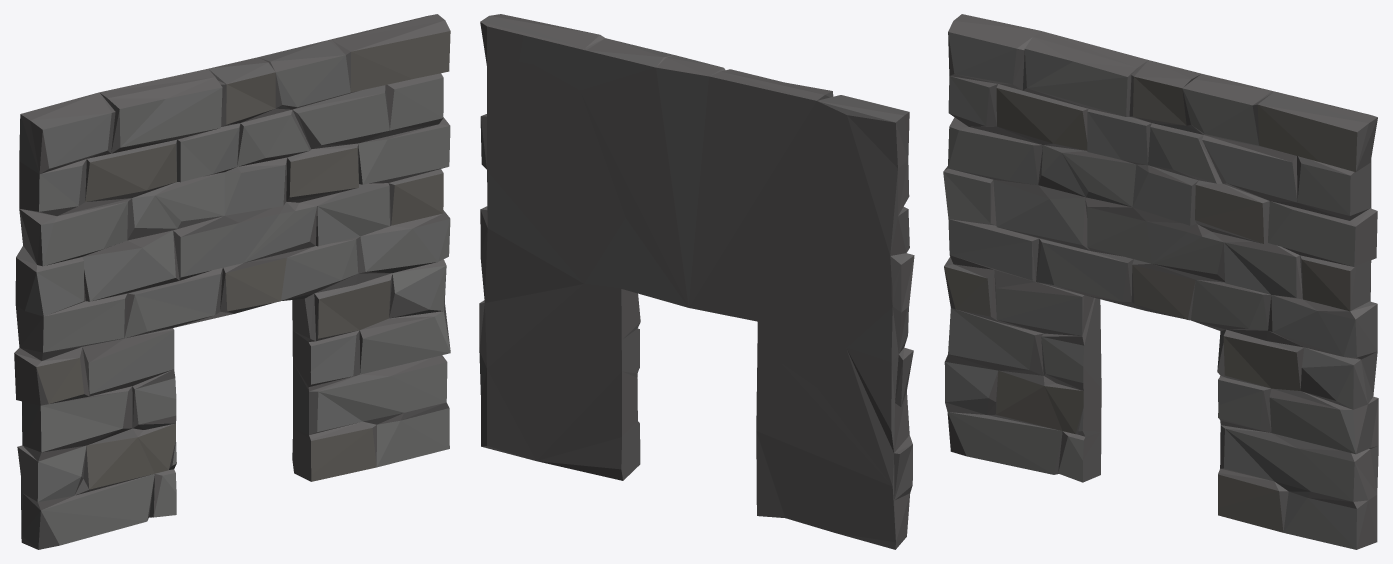
Rendered from SM_Env_Wall_DoorFrame_01.FBX.
The picture shows the model from 3 angles, left to right: view 1: azimuth 30°, elevation 25°; view 2: azimuth 150°, elevation 25°; view 3: azimuth 330°, elevation 25°; orthographic projection.
Parts seen in each view (by area): view 1: SM_Env_Wall_DoorFrame_01; view 2: SM_Env_Wall_DoorFrame_01; view 3: SM_Env_Wall_DoorFrame_01.
Boxes of the visible parts, box(x1,y1,x2,y2) form: SM_Env_Wall_DoorFrame_01: box(14, 14, 450, 549); SM_Env_Wall_DoorFrame_01: box(479, 14, 914, 549); SM_Env_Wall_DoorFrame_01: box(943, 14, 1378, 549).
Size of what is drawn, in the model's own units: 522 by 42.95 by 507.
